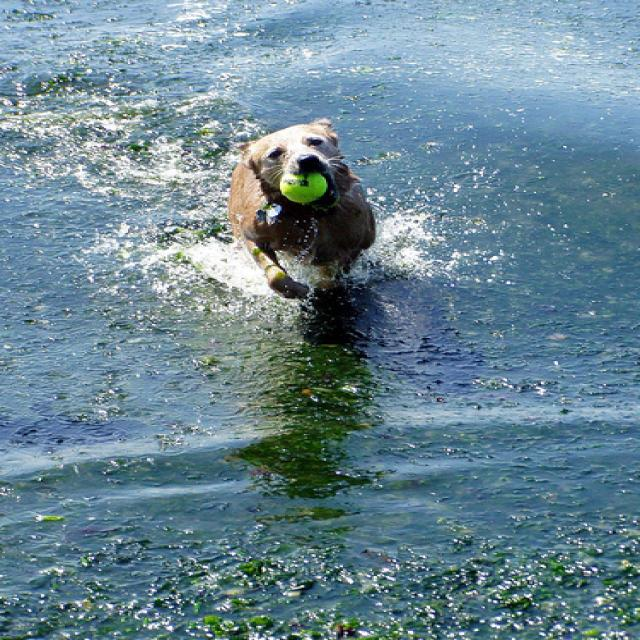dog: (223, 116, 378, 303)
